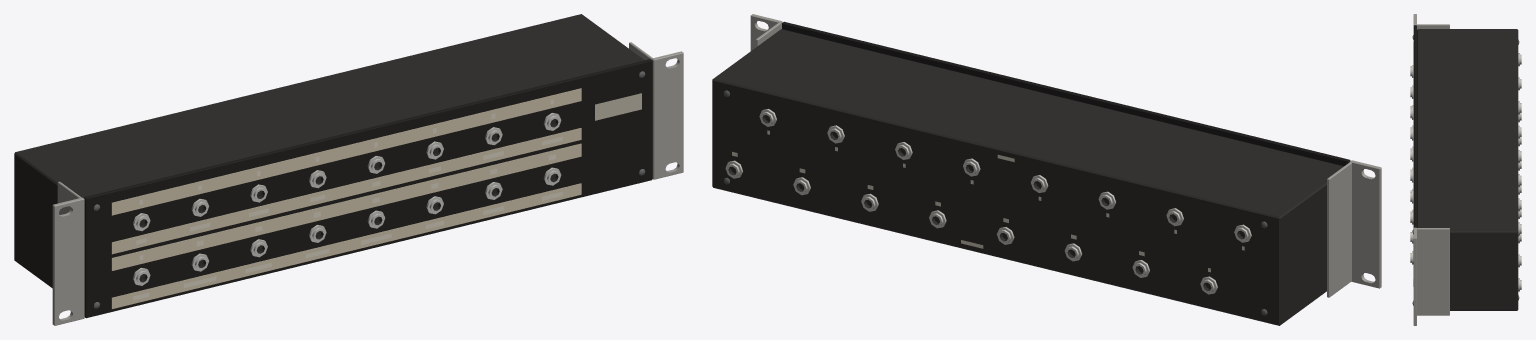
Rendered from patch-bay-706838939b96.glb.
3 renders of one model, left to right at view 1: azimuth 30°, elevation 25°; view 2: azimuth 150°, elevation 25°; view 3: azimuth 270°, elevation 25°, orthographic. The views are drawn at different scales.
Visible parts, largest first — view 1: enamel-black, plastic-dark, paper, brushed, chrome, decal-ink, decal-print; view 2: plastic-dark, brushed, enamel-black, chrome, decal-ink; view 3: plastic-dark, brushed, chrome, enamel-black, paper.
Boxes of the visible parts, x1,y1,x2,y2 form: enamel-black: [84, 59, 652, 318]; plastic-dark: [14, 14, 644, 288]; paper: [111, 88, 581, 308]; brushed: [52, 42, 683, 325]; chrome: [133, 113, 561, 285]; decal-ink: [133, 99, 562, 300]; decal-print: [595, 93, 641, 120]; plastic-dark: [712, 29, 1343, 325]; brushed: [750, 14, 1381, 297]; enamel-black: [782, 21, 1350, 166]; chrome: [725, 109, 1251, 294]; decal-ink: [732, 130, 1244, 272]; plastic-dark: [1417, 29, 1518, 310]; brushed: [1413, 14, 1449, 325]; chrome: [1410, 53, 1521, 291]; enamel-black: [1413, 25, 1416, 227]; paper: [1413, 42, 1413, 286].
Bounding box in the file's own units: 0.4826 × 0.088 × 0.1014.
